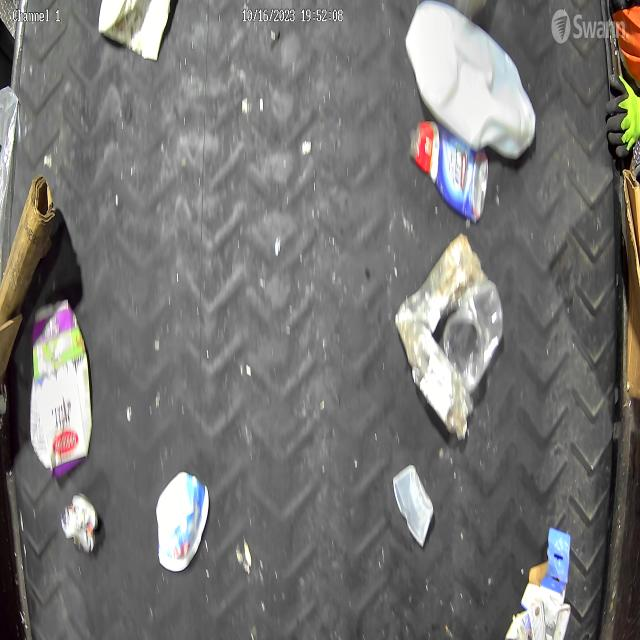milk_jug: (400, 0, 534, 166), (392, 461, 429, 550)
